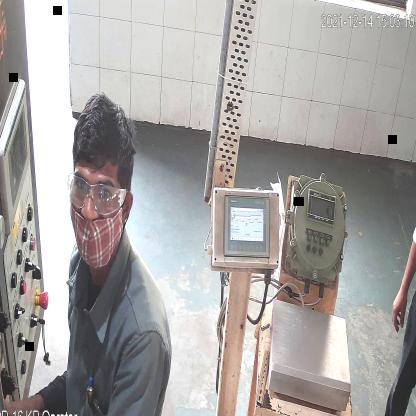goggles: (70, 164, 129, 211)
